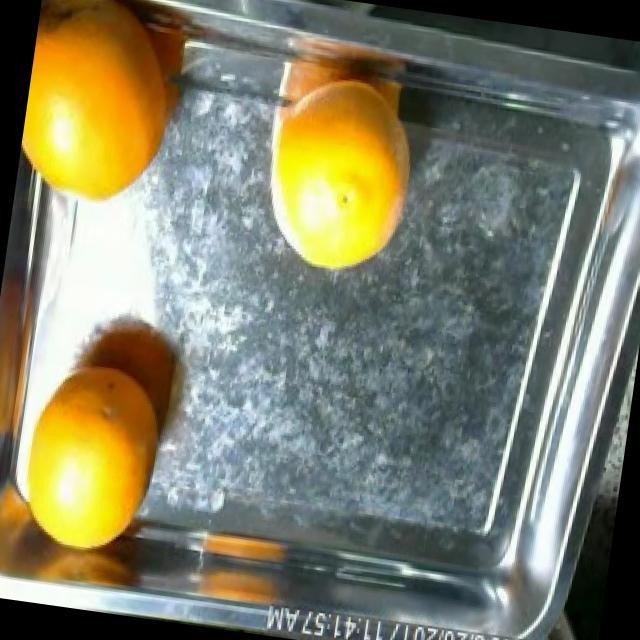Fruit: (250, 84, 435, 295), (12, 23, 194, 231)
